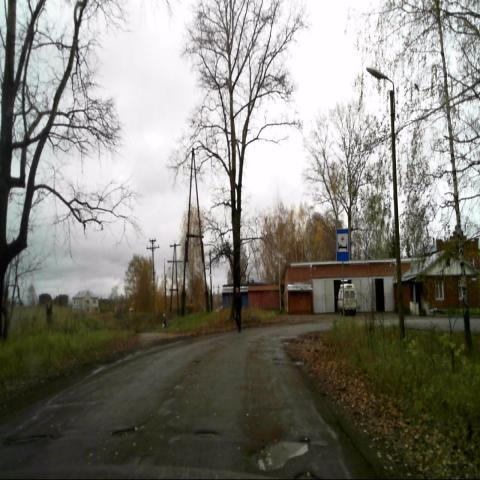7_2: (336, 229, 349, 262)
